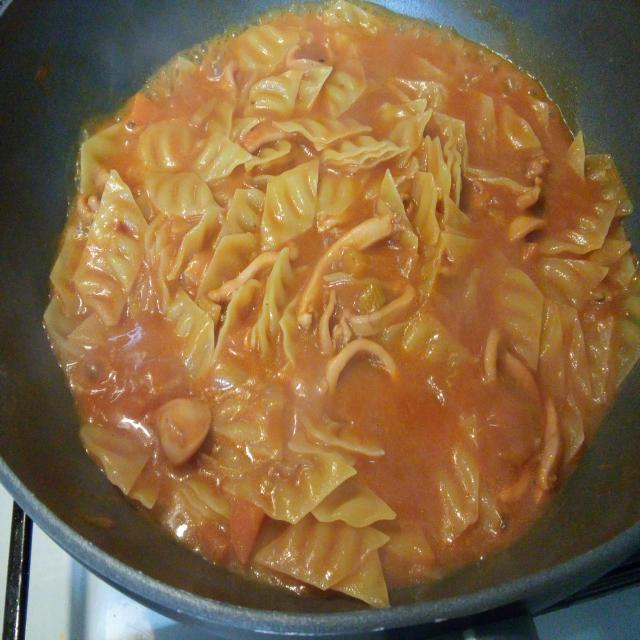Pasta al ragu: (87, 31, 601, 577)
